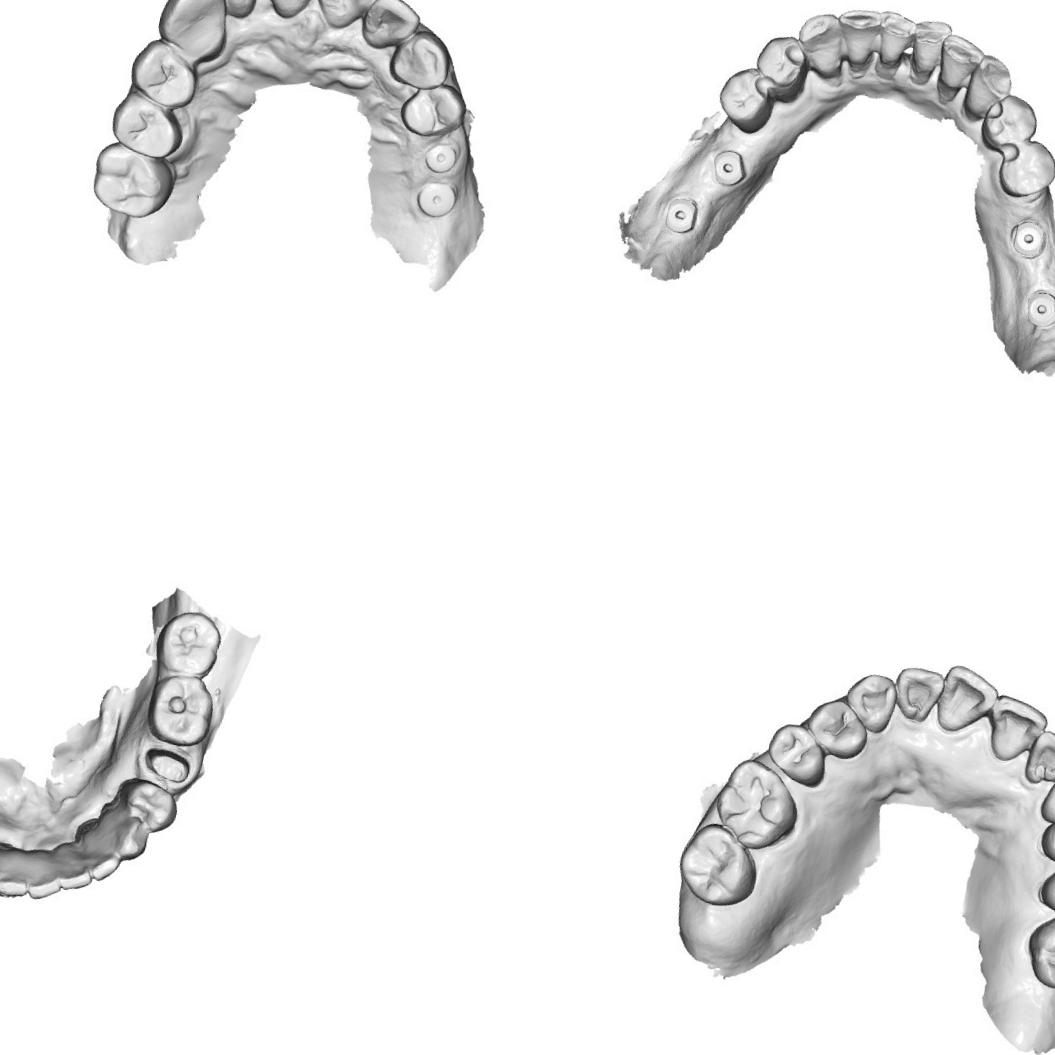canine: (151, 0, 237, 62), (382, 22, 455, 95), (837, 666, 904, 740), (790, 8, 854, 84), (961, 48, 1020, 122), (1034, 764, 1055, 829)
crown: (138, 743, 193, 788)
implant: (409, 174, 458, 226), (1004, 216, 1051, 270), (660, 191, 704, 237), (706, 145, 748, 192), (1021, 280, 1055, 330), (420, 138, 461, 178)
incisor: (928, 660, 1003, 742), (979, 692, 1050, 772), (827, 3, 892, 84), (897, 15, 954, 96), (869, 9, 926, 84), (930, 33, 978, 108), (890, 664, 939, 724), (102, 808, 152, 865), (50, 841, 100, 897), (363, 0, 417, 51), (21, 850, 69, 907), (1015, 726, 1055, 794), (312, 0, 375, 33), (79, 842, 123, 886), (194, 0, 270, 24), (0, 849, 36, 899), (256, 0, 319, 13)
molar: (711, 754, 807, 855), (673, 818, 765, 911), (83, 136, 177, 225), (141, 670, 218, 753), (151, 604, 226, 684), (1019, 899, 1055, 1000)
premolar: (103, 88, 190, 166), (124, 33, 206, 114), (754, 717, 836, 788), (392, 74, 472, 144), (802, 692, 868, 763), (112, 774, 181, 837), (751, 24, 813, 94), (713, 64, 776, 132), (982, 93, 1038, 154), (1000, 140, 1055, 196), (1031, 811, 1055, 875), (1037, 857, 1055, 925)
